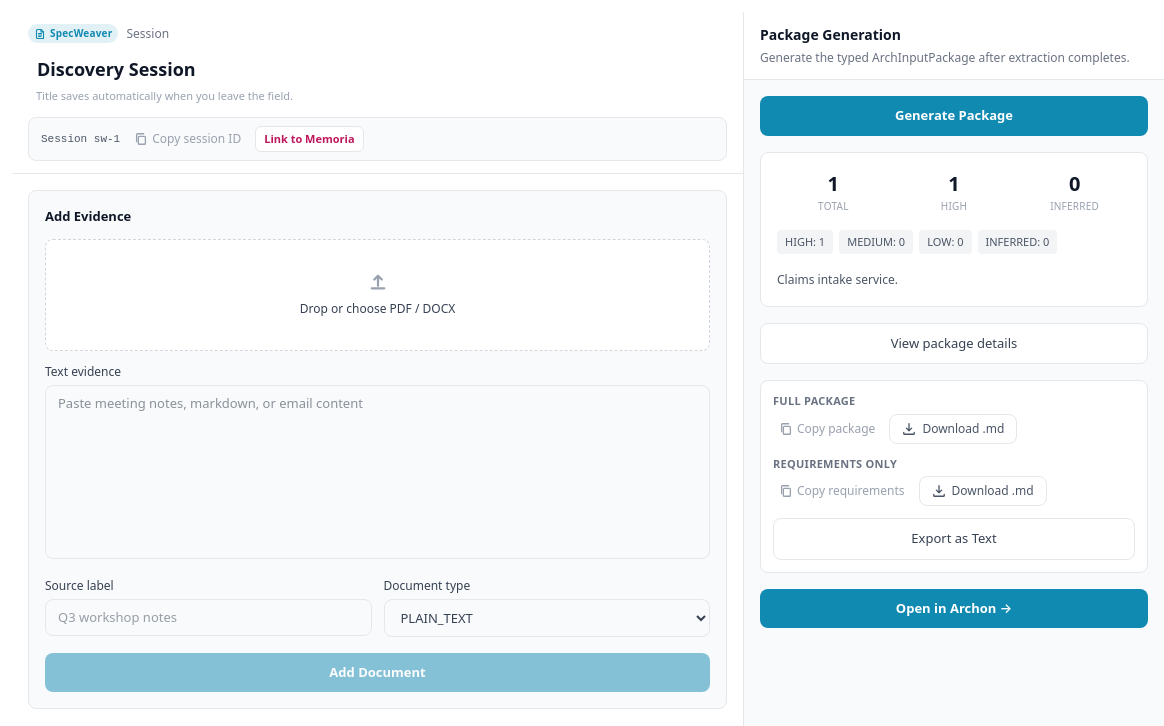
Test case: SessionView › exports_package_and_navigates_to_archon_with_prefill_message
The width and height of the screenshot is (1164, 726).
Click the button "Export as Text" at (954, 539), box top-left (773, 518), bottom-right (1135, 560)
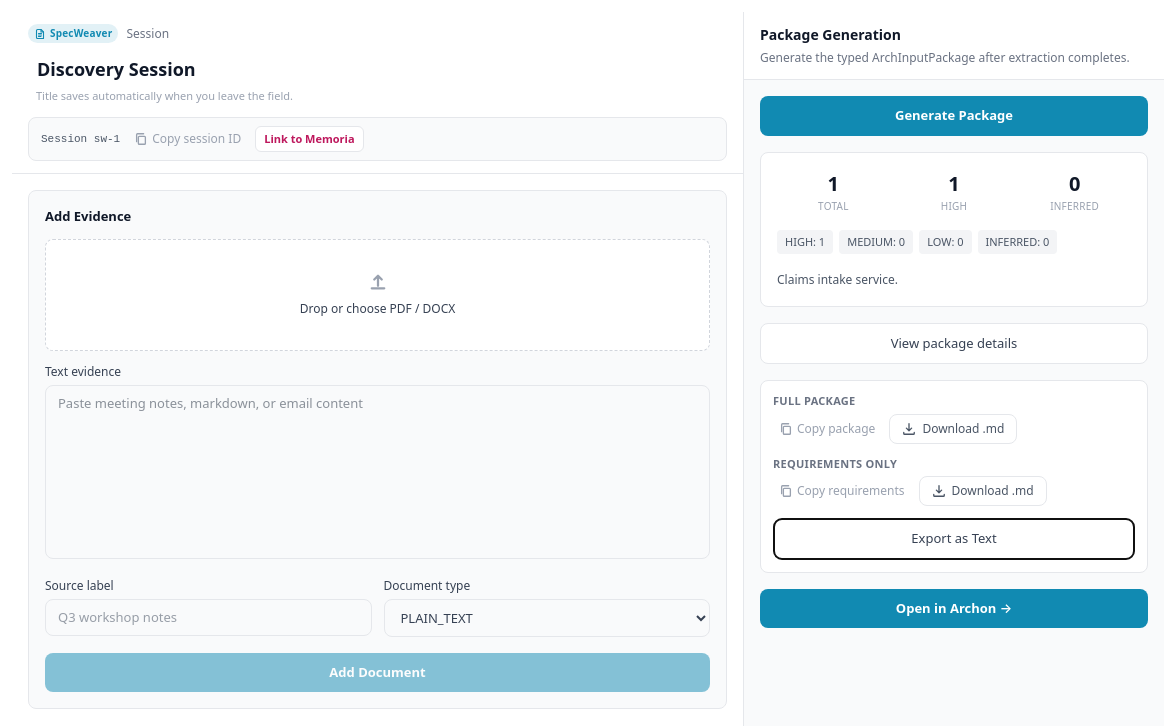
Click the button "Open in Archon →" at (954, 608), box top-left (760, 588), bottom-right (1148, 628)
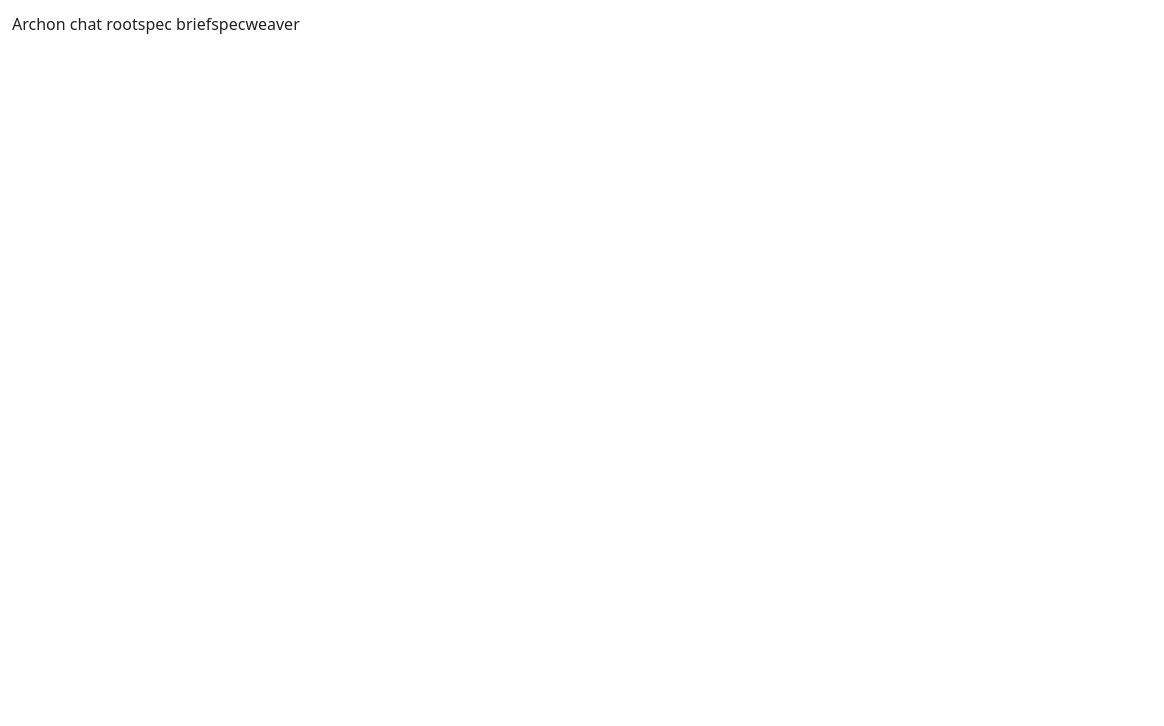
Expected: the text with test id "source-state" reads "specweaver", top-left (211, 13), bottom-right (300, 35)
Now the text "Archon chat root" is shown, box top-left (12, 13), bottom-right (138, 35)
Now the text with test id "prefill-state" reads "spec brief", box top-left (138, 13), bottom-right (211, 35)
